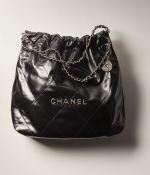channel: (11, 18, 132, 144), (48, 94, 98, 112), (58, 54, 84, 78)
